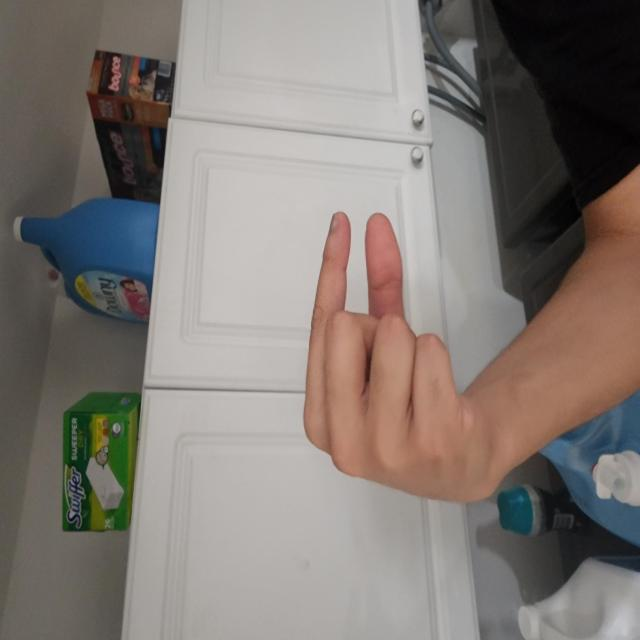Q: (98, 400, 326, 640)
